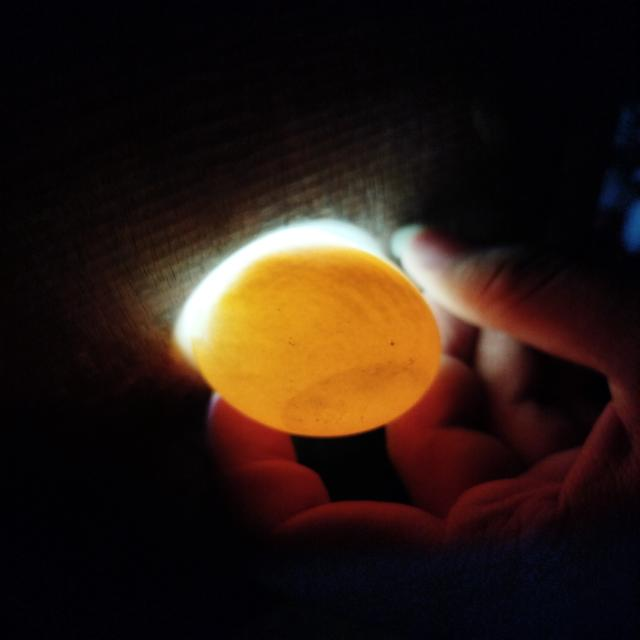Camara de Ar: (281, 362, 433, 435)
